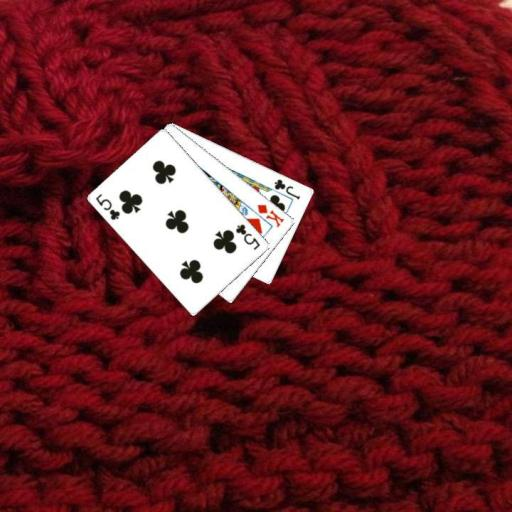5C: (233, 220, 262, 252), (93, 190, 122, 222)
JC: (272, 176, 302, 201)
KD: (254, 201, 286, 229)
